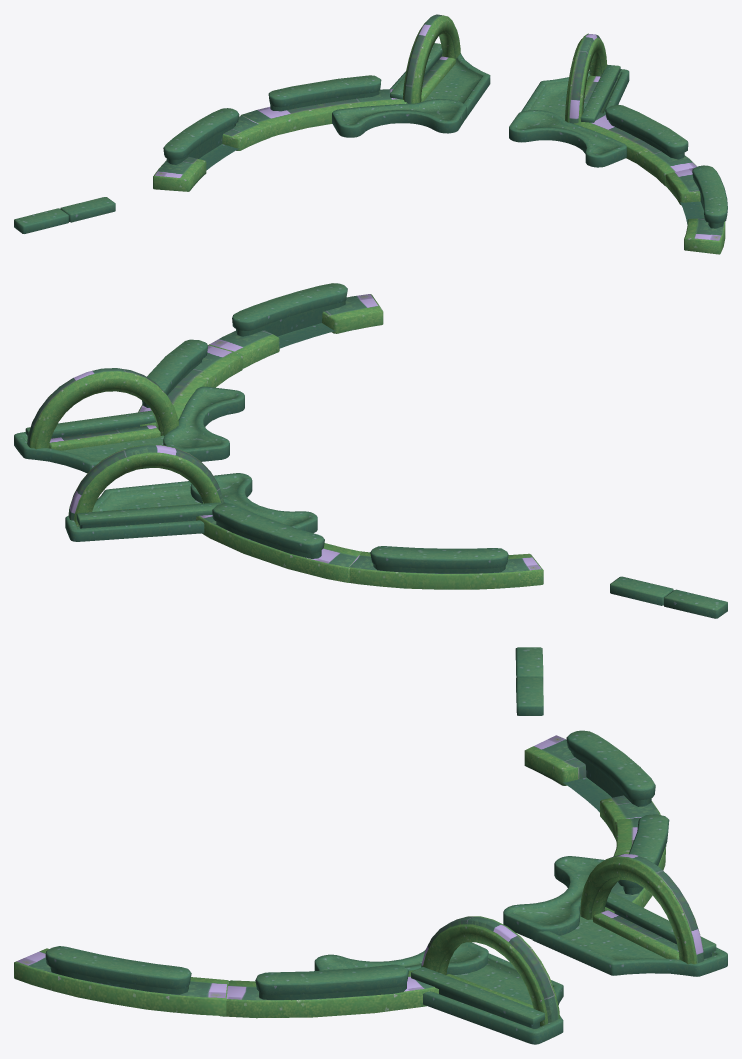
The model's file is pref_sm_garden_bush_vertexcolor_01_lv0.fbx.
3 renders of one model, top to bottom at view 1: azimuth 30°, elevation 25°; view 2: azimuth 150°, elevation 25°; view 3: azimuth 270°, elevation 25°, orthographic. The views are drawn at different scales.
Visible parts, largest first — view 1: pref_sm_garden_bush_vertexcolor_01_lv0; view 2: pref_sm_garden_bush_vertexcolor_01_lv0; view 3: pref_sm_garden_bush_vertexcolor_01_lv0.
Part boxes in pixels (<box>): pref_sm_garden_bush_vertexcolor_01_lv0: <box>14,14,727,254</box>; pref_sm_garden_bush_vertexcolor_01_lv0: <box>14,283,727,618</box>; pref_sm_garden_bush_vertexcolor_01_lv0: <box>14,647,727,1044</box>.
Bounding box in the file's own units: 58.79 × 6.28 × 45.65.
